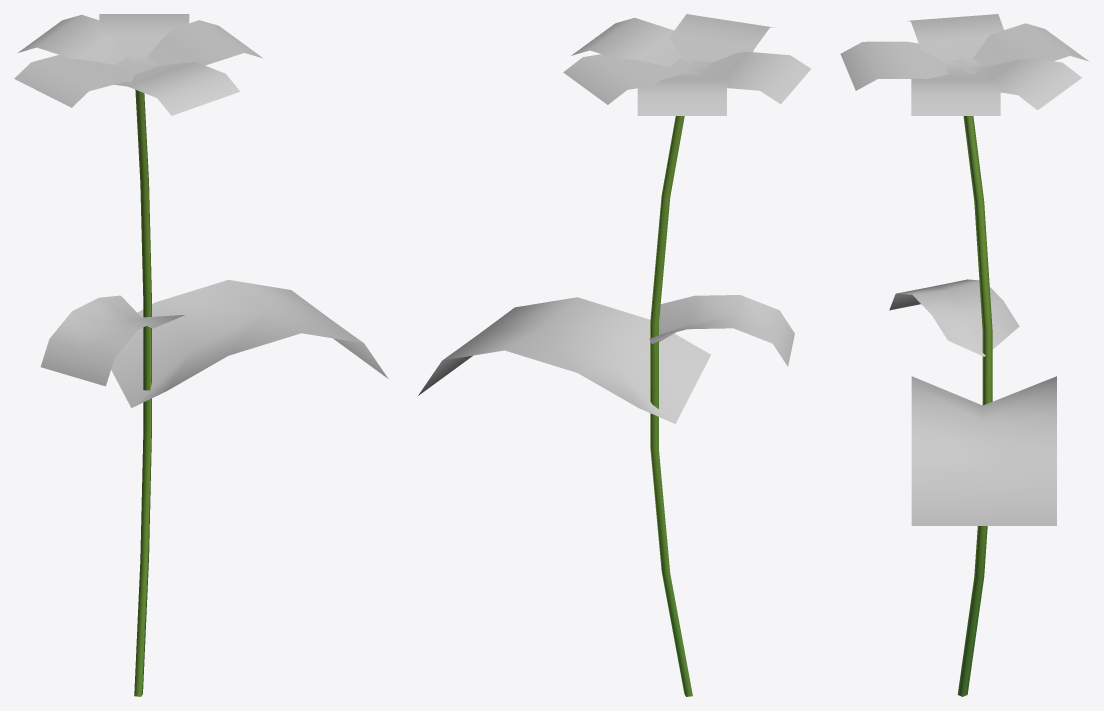
Rendered from SM_flower_13.fbx.
The picture shows the model from 3 angles, left to right: view 1: azimuth 30°, elevation 25°; view 2: azimuth 150°, elevation 25°; view 3: azimuth 270°, elevation 25°; orthographic projection.
Visible parts, largest first — view 1: SM_flower_13; view 2: SM_flower_13; view 3: SM_flower_13.
Boxes of the visible parts, x1,y1,x2,y2 form: SM_flower_13: [14, 14, 388, 696]; SM_flower_13: [418, 14, 810, 696]; SM_flower_13: [840, 14, 1088, 696].
Size of the model in its own units: 29.81 by 54.83 by 19.43.
